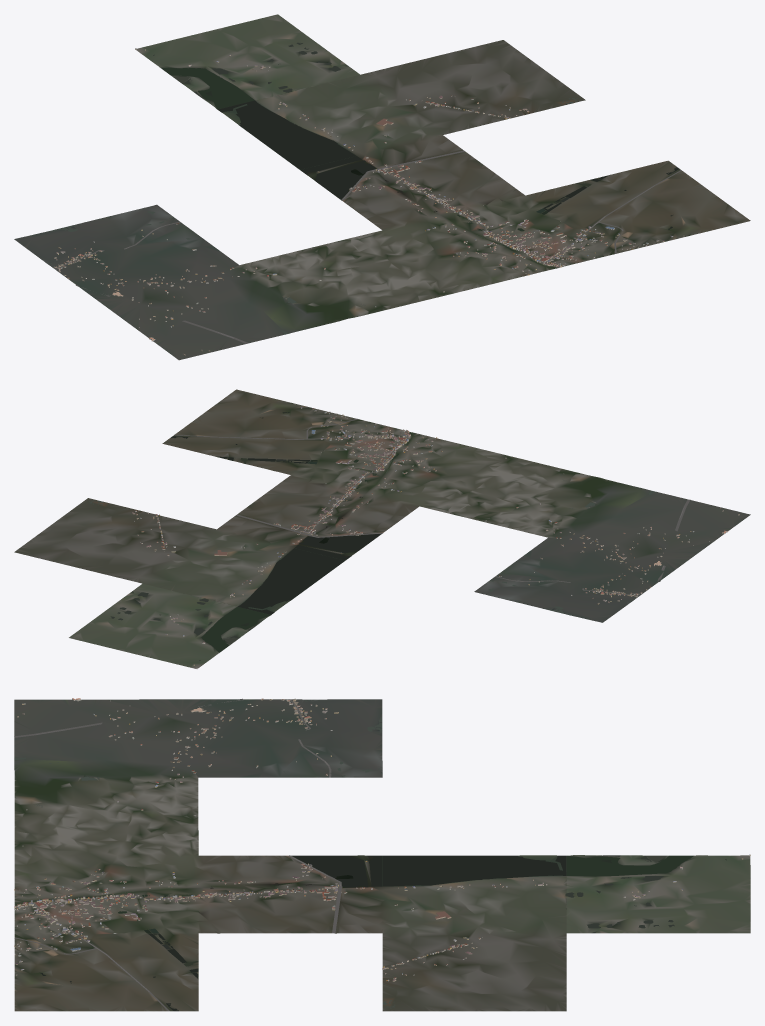
3 renders of one model, top to bottom at view 1: azimuth 30°, elevation 25°; view 2: azimuth 150°, elevation 25°; view 3: azimuth 270°, elevation 25°, orthographic. The views are drawn at different scales.
Visible parts, largest first — view 1: ground, water, buildings, roads; view 2: ground, water, buildings, roads; view 3: ground, water, buildings, roads.
Boxes of the visible parts, x1=… form: ground: x1=14, y1=14, x2=750, y2=360; water: x1=46, y1=42, x2=679, y2=334; buildings: x1=53, y1=48, x2=684, y2=355; roads: x1=55, y1=150, x2=681, y2=343; ground: x1=14, y1=389, x2=750, y2=668; water: x1=89, y1=412, x2=654, y2=660; buildings: x1=132, y1=404, x2=739, y2=668; roads: x1=174, y1=418, x2=690, y2=596; ground: x1=14, y1=699, x2=750, y2=1011; water: x1=14, y1=699, x2=726, y2=1011; buildings: x1=14, y1=698, x2=750, y2=981; roads: x1=14, y1=698, x2=342, y2=1011.
Bounding box in the file's own units: 5629 × 30.58 × 5615.
